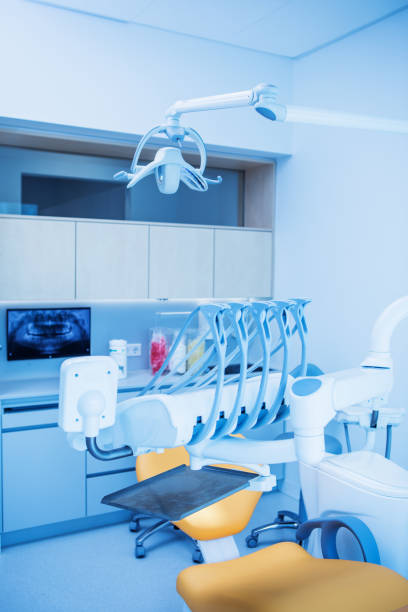cabinet: (1, 205, 278, 299)
counter: (1, 373, 284, 547)
countertop: (5, 353, 255, 403)
surgical_light: (116, 119, 226, 200)
